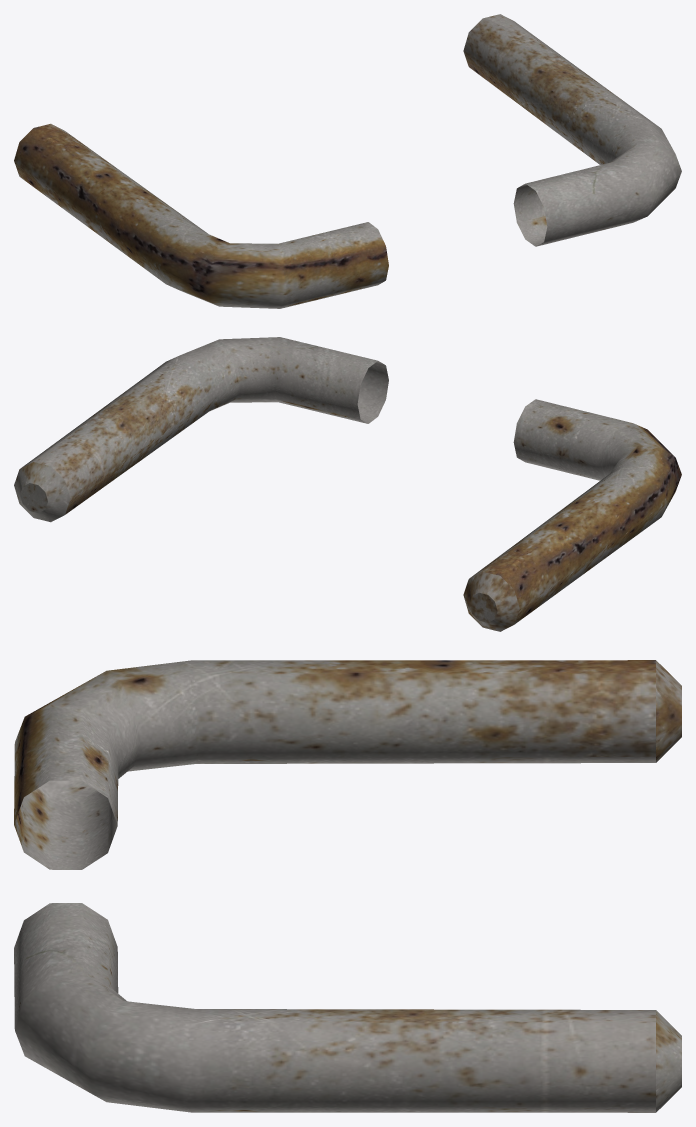
Rendered from Door_Handle.fbx.
3 views of the same model, one above another, from view 1: azimuth 30°, elevation 25°; view 2: azimuth 150°, elevation 25°; view 3: azimuth 270°, elevation 25° (orthographic). The views are drawn at different scales.
Visible parts, largest first — view 1: Door_Handle; view 2: Door_Handle; view 3: Door_Handle.
Boxes of the visible parts, <box> form: Door_Handle: <box>14,14,681,308</box>; Door_Handle: <box>14,337,681,631</box>; Door_Handle: <box>14,660,681,1112</box>.
Size of the model in its own units: 0.2374 by 0.025 by 0.1698.
